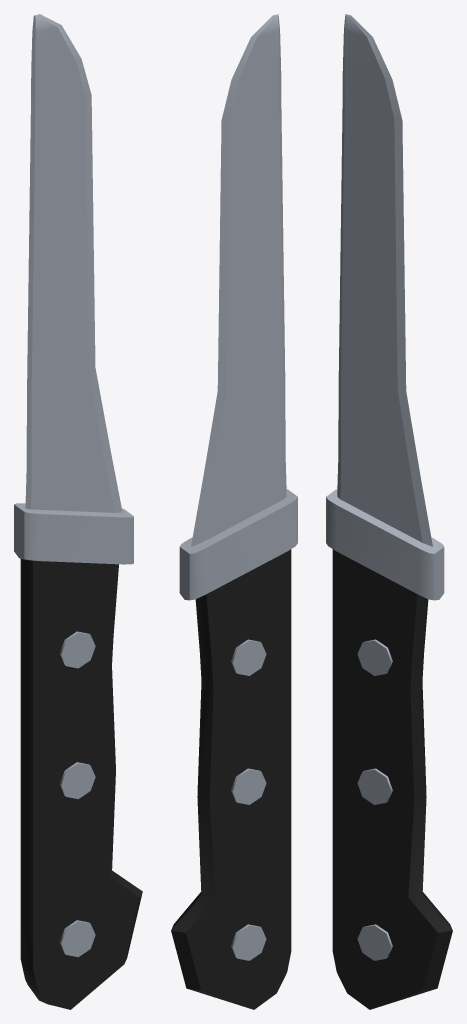
The model's file is cooking_assets_steak_knife.glb.
The picture shows the model from 3 angles, left to right: view 1: azimuth 30°, elevation 25°; view 2: azimuth 210°, elevation 25°; view 3: azimuth 330°, elevation 25°; orthographic projection.
Parts seen in each view (by area): view 1: knife_steak_knife_Cube.015; view 2: knife_steak_knife_Cube.015; view 3: knife_steak_knife_Cube.015.
Part boxes in pixels (x1,y1,x2,y2): knife_steak_knife_Cube.015: (14,14,142,1009); knife_steak_knife_Cube.015: (171,14,297,1009); knife_steak_knife_Cube.015: (326,14,452,1009).
Bounding box in the file's own units: 0.8605 × 6.64 × 0.1843.
Materials: 1 (1 with a texture image).
